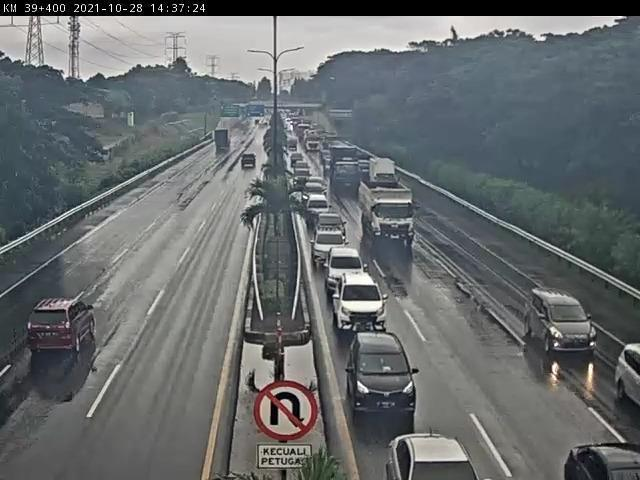car: (349, 332, 418, 420), (526, 289, 597, 353), (388, 434, 483, 480), (28, 299, 96, 353), (335, 275, 388, 332), (565, 444, 640, 480), (328, 248, 366, 295), (616, 343, 640, 409), (316, 227, 347, 265), (316, 214, 346, 238), (304, 183, 327, 203), (307, 196, 329, 216), (295, 170, 311, 184), (243, 154, 257, 168)
truck: (361, 183, 414, 241), (331, 147, 360, 192), (370, 158, 398, 189), (216, 129, 232, 151)
